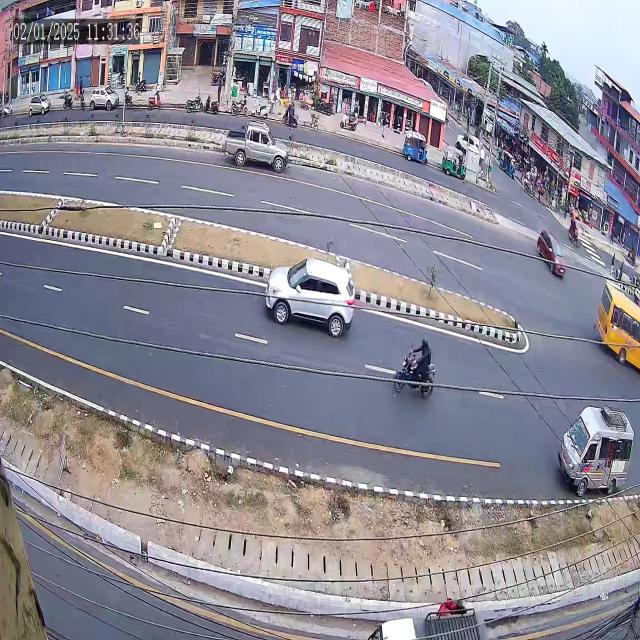car: (263, 235, 361, 361), (526, 221, 568, 295)
motorcycle: (384, 317, 442, 402)
